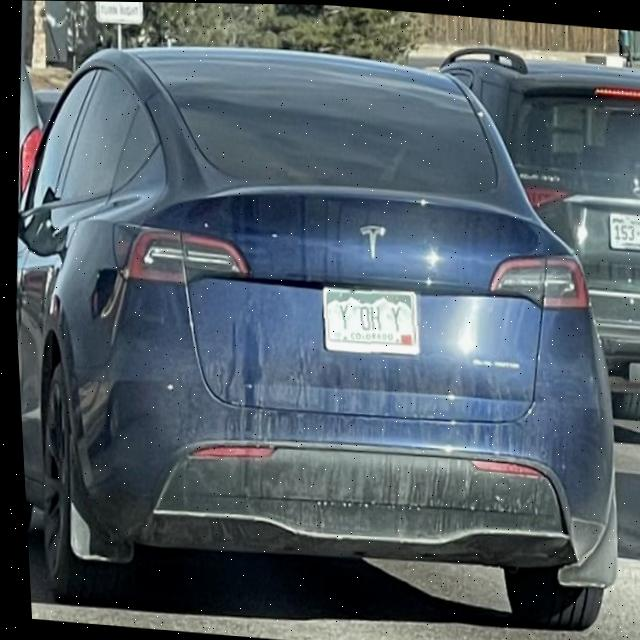LicensePlate: (320, 286, 416, 356)
